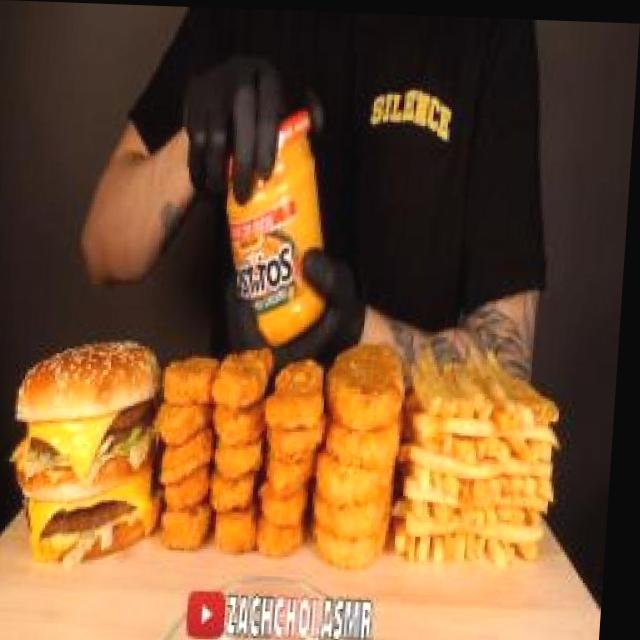Hashbrown: (315, 315, 422, 576)
burger: (6, 333, 178, 566)
french fries: (400, 326, 589, 581)
nugget: (151, 325, 333, 568)
tostitos cheese dip sauce: (212, 90, 354, 348)
